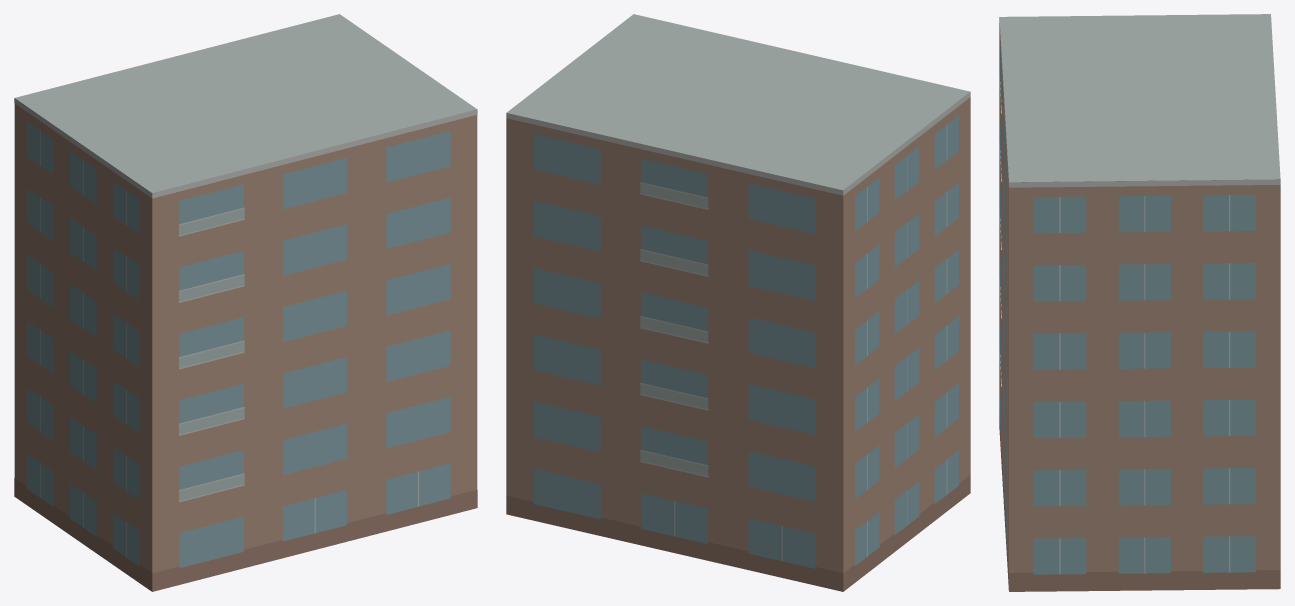
Rendered from survey-upis-32898440.glb.
3 views of the same model, side by side, from view 1: azimuth 30°, elevation 25°; view 2: azimuth 150°, elevation 25°; view 3: azimuth 270°, elevation 25° (orthographic). The views are drawn at different scales.
Visible parts, largest first — view 1: survey-upis-32898440.tmp; view 2: survey-upis-32898440.tmp; view 3: survey-upis-32898440.tmp.
Part boxes in pixels (bbox=[...]): survey-upis-32898440.tmp: bbox=[14, 14, 477, 591]; survey-upis-32898440.tmp: bbox=[506, 14, 970, 591]; survey-upis-32898440.tmp: bbox=[999, 14, 1280, 591].
Size of the model in its own units: 16.13 by 18.3 by 11.4.
